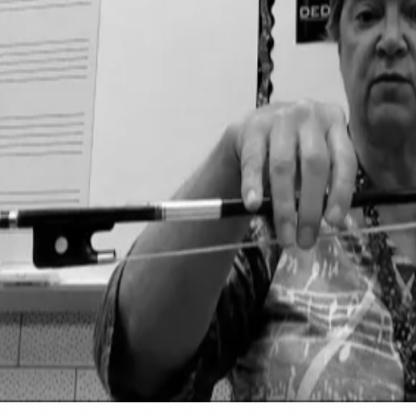bad: (228, 91, 366, 259)
